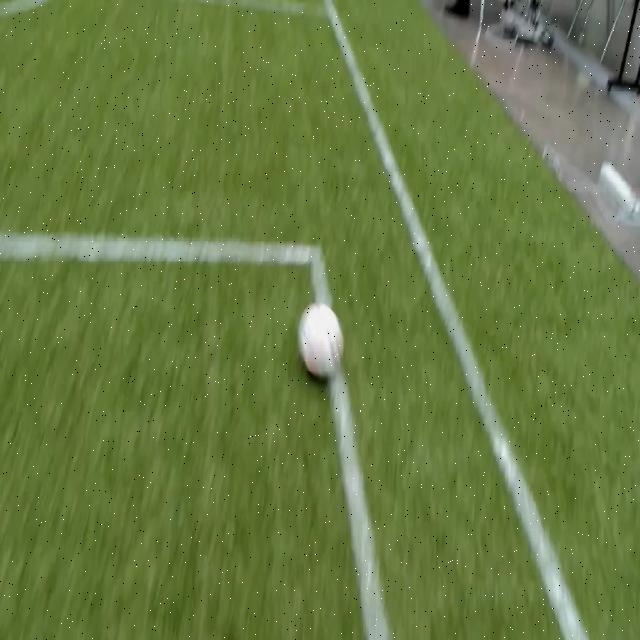ball: (298, 300, 343, 383)
